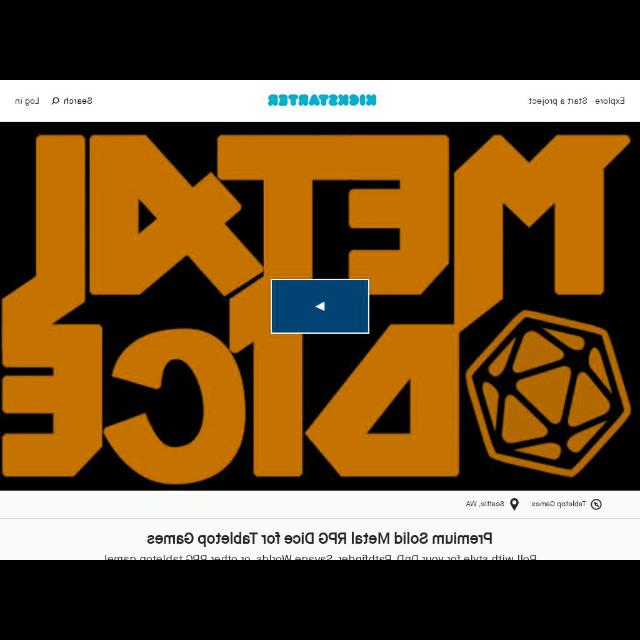icon: (590, 499, 604, 509), (508, 498, 520, 509), (51, 95, 60, 105)
image: (1, 121, 638, 488), (262, 88, 388, 112)
text: (144, 530, 496, 550), (101, 553, 545, 559), (530, 498, 586, 512), (530, 94, 588, 106), (594, 94, 626, 106), (13, 96, 41, 108), (63, 95, 93, 105), (465, 500, 505, 506)
toolbar: (1, 80, 638, 120)
